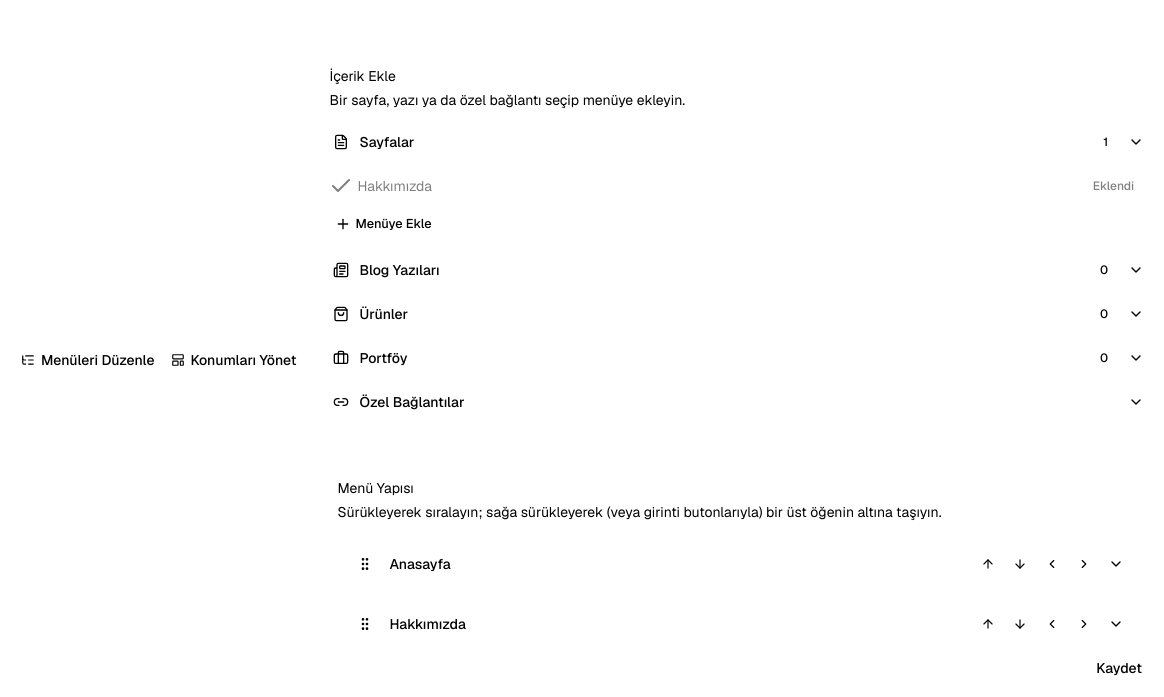
AdminNavigationPage — a11y › 'Konumları Yönet' sekmesi (logo/CTA/footer/sosyal linkler + canlı önizleme) kritik/ciddi a11y ihlali içermez
The width and height of the screenshot is (1164, 697).
(page scrolled)
Expected: the text "Anasayfa" is shown, left=390, top=555, right=451, bottom=573
Click the tab "Konumları Yönet" at [233, 360], box left=164, top=34, right=302, bottom=686
(page scrolled)
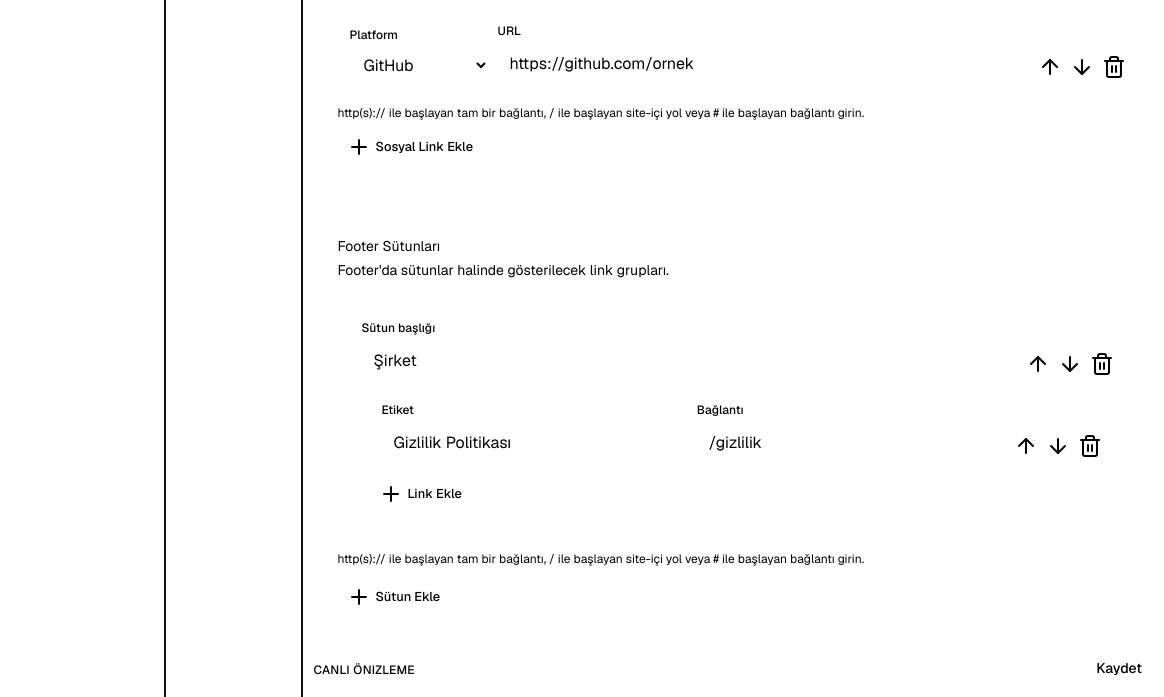
Now the field showing "Şirket" is shown, box left=362, top=342, right=1016, bottom=378
